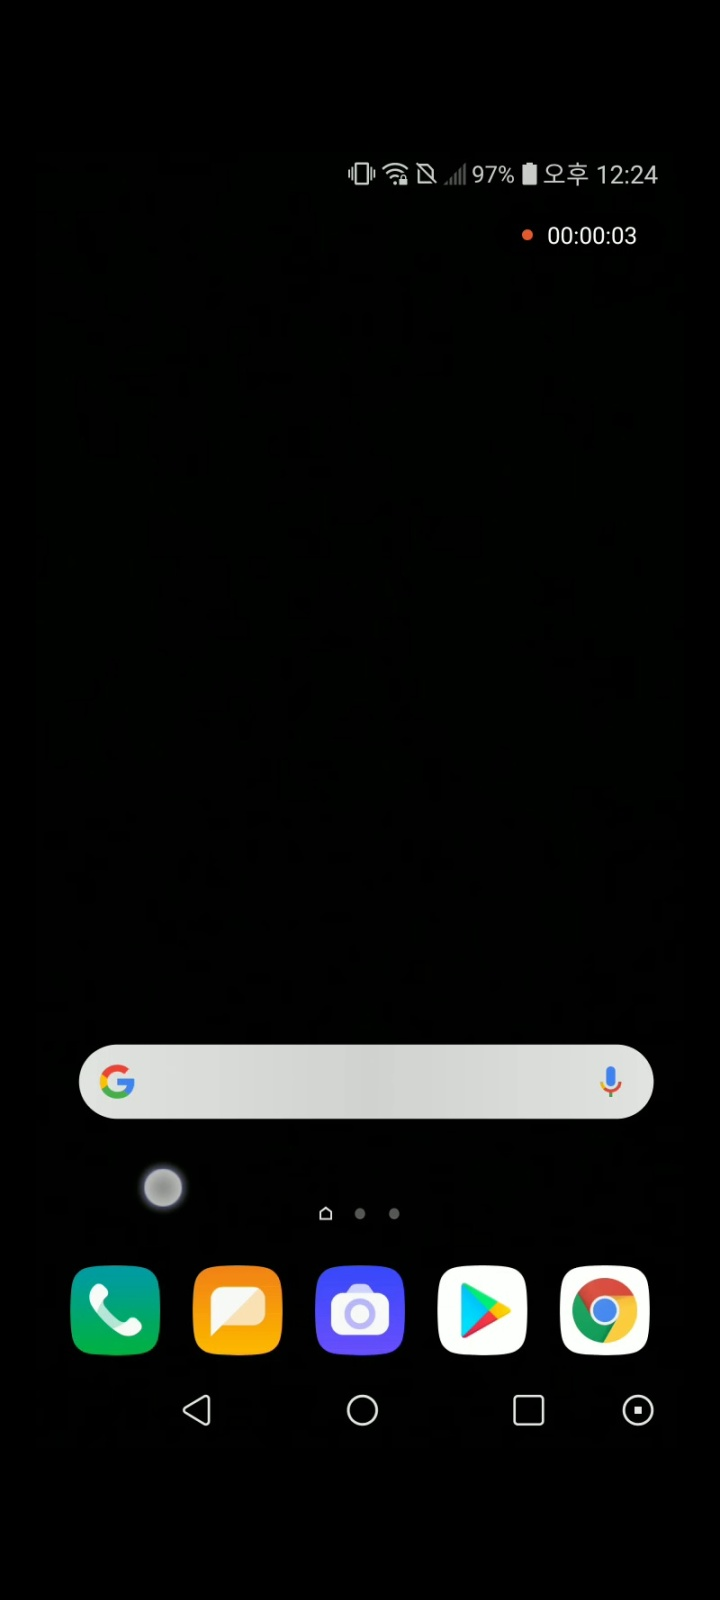Cursor: (142, 1166, 187, 1211)
